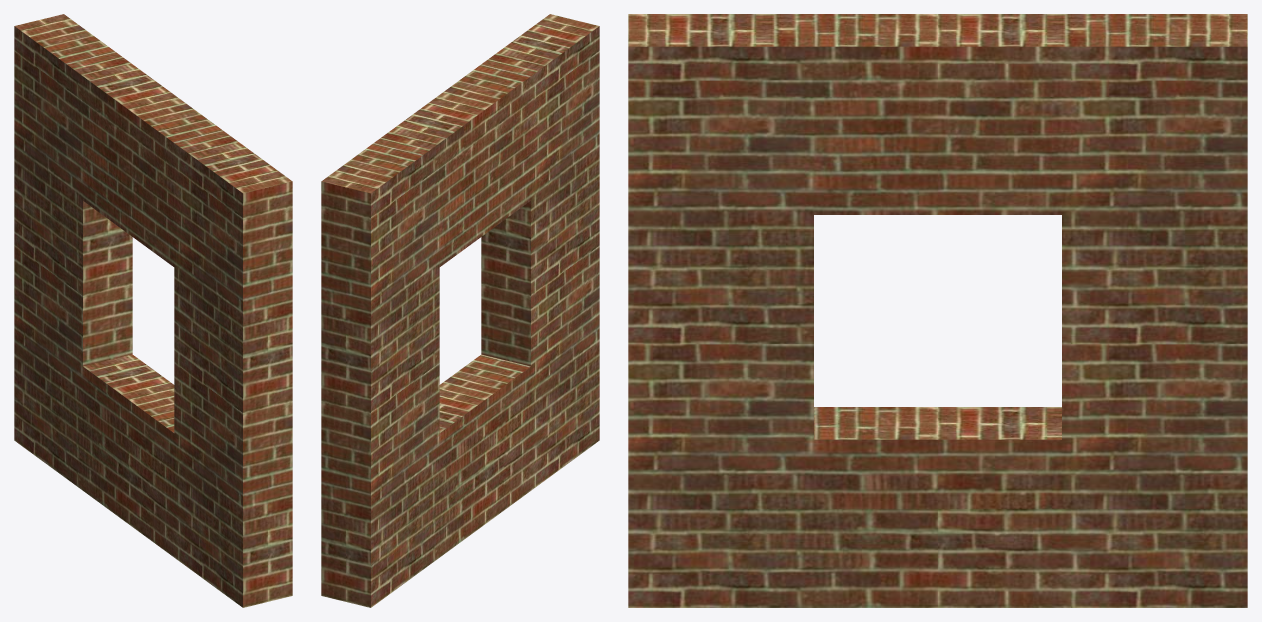
Rendered from brick_wall_hole_7.dae.
3 renders of one model, left to right at view 1: azimuth 30°, elevation 25°; view 2: azimuth 150°, elevation 25°; view 3: azimuth 270°, elevation 25°, orthographic. The views are drawn at different scales.
Visible parts, largest first — view 1: SketchUp (×2); view 2: SketchUp (×2); view 3: SketchUp (×2).
Boxes of the visible parts, x1=… form: SketchUp (×2): x1=14, y1=14, x2=292, y2=607; SketchUp (×2): x1=321, y1=14, x2=599, y2=607; SketchUp (×2): x1=628, y1=14, x2=1247, y2=607.
Size of the model in its own units: 9.84 by 78.74 by 78.74.
